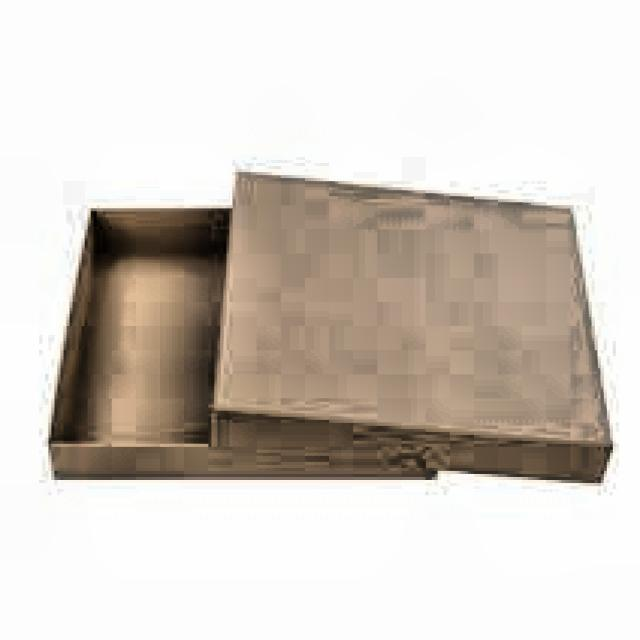cardboard: (208, 166, 613, 483), (45, 202, 438, 480)
